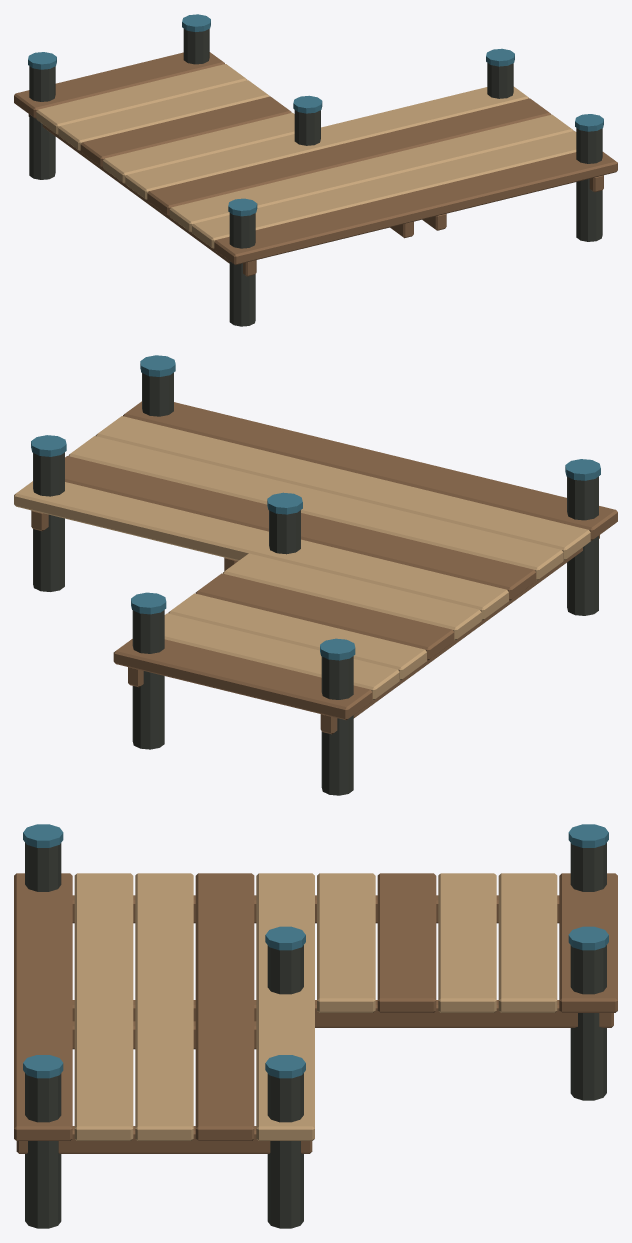
File: 02_Corner_Dock.glb
The picture shows the model from 3 angles, top to bottom: view 1: azimuth 30°, elevation 25°; view 2: azimuth 150°, elevation 25°; view 3: azimuth 270°, elevation 25°; orthographic projection. The views are drawn at different scales.
Parts seen in each view (by area): view 1: 02_Corner_Dock__Body; view 2: 02_Corner_Dock__Body; view 3: 02_Corner_Dock__Body.
Boxes of the visible parts, x1,y1,x2,y2 form: 02_Corner_Dock__Body: (14, 14, 617, 326); 02_Corner_Dock__Body: (14, 355, 617, 795); 02_Corner_Dock__Body: (14, 824, 617, 1228).
Bounding box in the file's own units: 5.98 × 1.73 × 5.98.
Materials: 1 (1 with a texture image).
